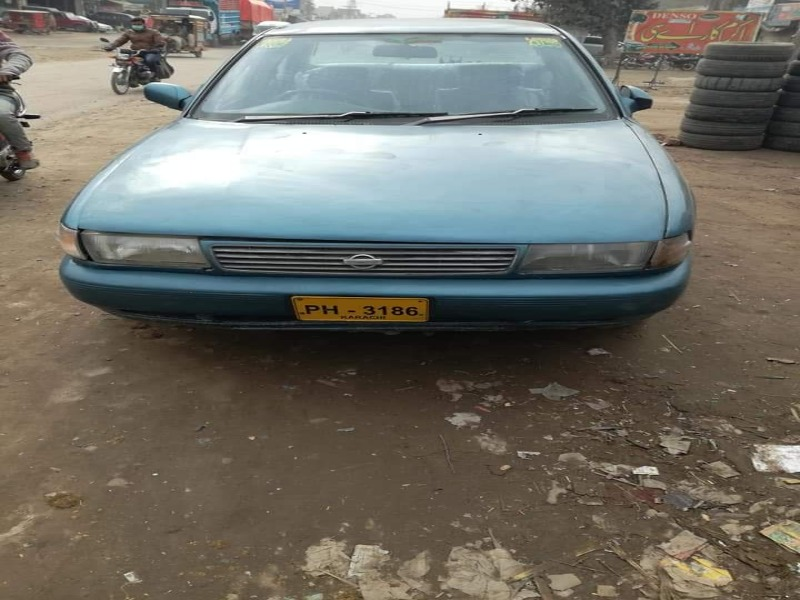License Plate: (288, 291, 436, 330)
